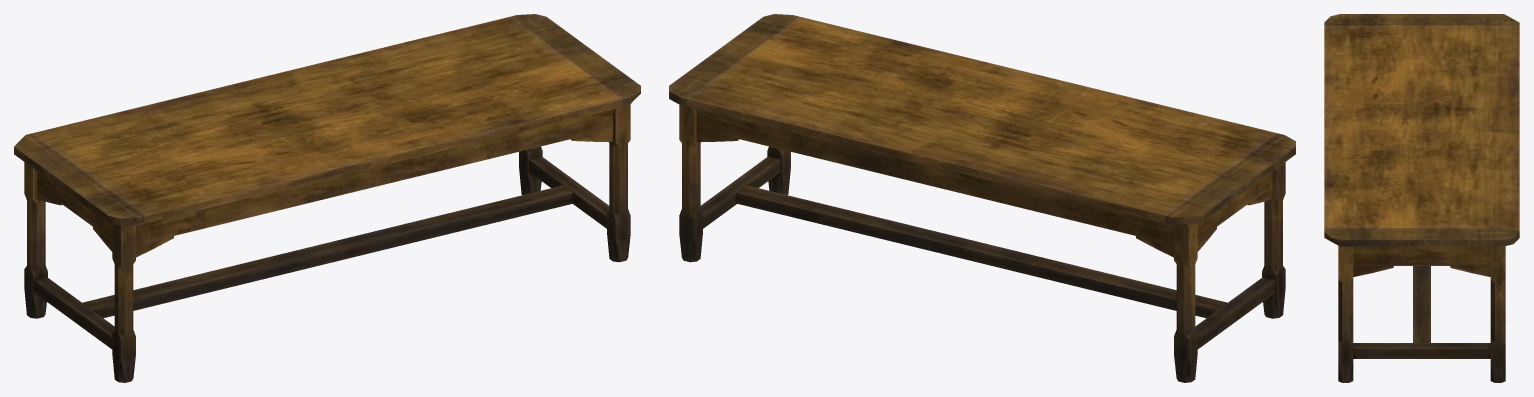
The model's file is WoodenTable_01.glb.
3 views of the same model, side by side, from view 1: azimuth 30°, elevation 25°; view 2: azimuth 150°, elevation 25°; view 3: azimuth 270°, elevation 25° (orthographic). The views are drawn at different scales.
Parts seen in each view (by area): view 1: WoodenTable_01; view 2: WoodenTable_01; view 3: WoodenTable_01.
Boxes of the visible parts, bbox=[...] form: WoodenTable_01: bbox=[14, 14, 640, 382]; WoodenTable_01: bbox=[669, 14, 1295, 382]; WoodenTable_01: bbox=[1324, 14, 1519, 382].
Bounding box in the file's own units: 1.79 × 0.5488 × 0.6572.
Materials: 1 (1 with a texture image).
